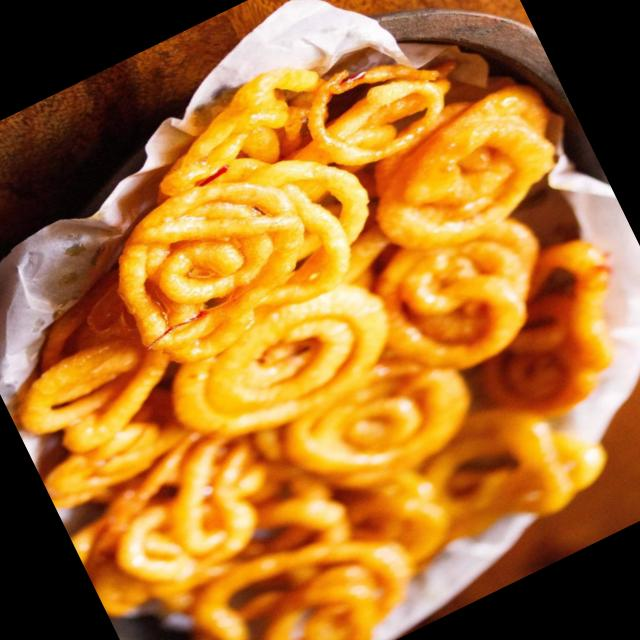jalebi: (0, 5, 640, 640)
